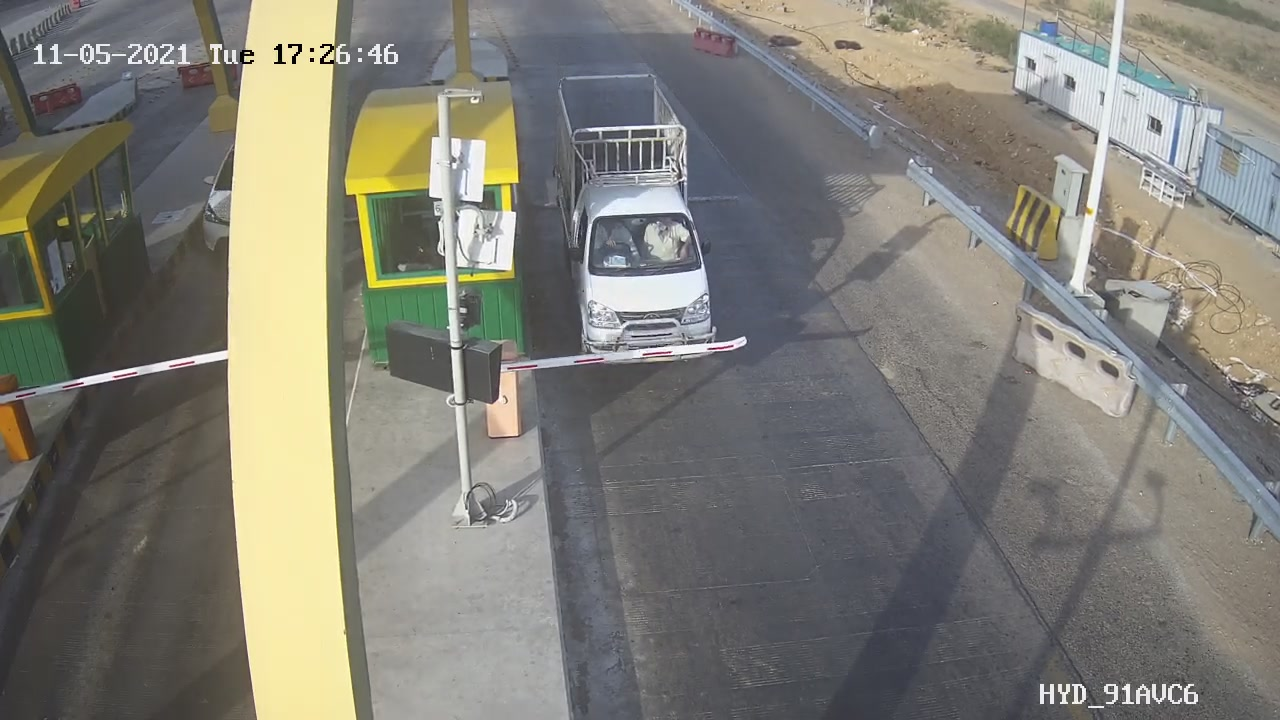F2: (527, 60, 742, 387)
